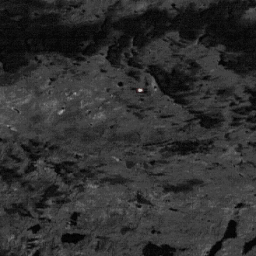Target: (137, 88, 143, 93)
